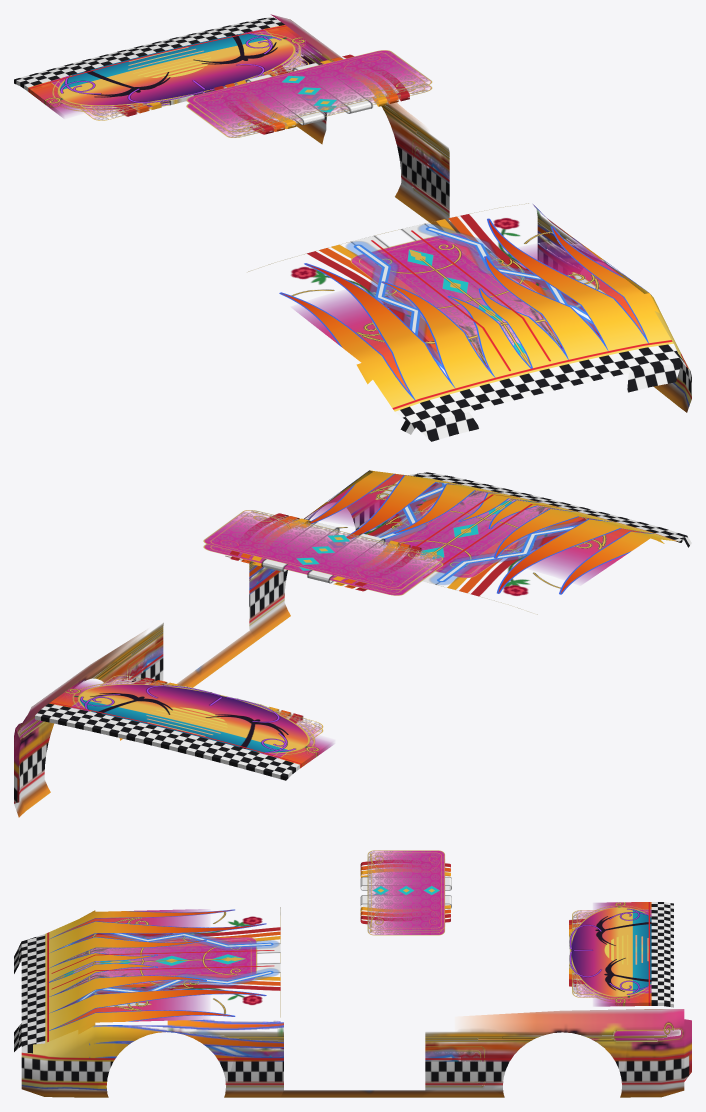
File: KazeRS8Vinyls.glb
3 renders of one model, top to bottom at view 1: azimuth 30°, elevation 25°; view 2: azimuth 150°, elevation 25°; view 3: azimuth 270°, elevation 25°, orthographic. The views are drawn at different scales.
Visible parts, largest first — view 1: KazeRS8Livery_flames_hood, KazeRS8Livery_mural_trunk, KazeRS8Livery_patterns_roof, KazeRS8Livery_checker_hood, KazeRS8Livery_patterns_hood, KazeRS8Livery_purple_lace_roof, KazeRS8Livery_lightning_hood, KazeRS8Livery_purple_lace_hood, KazeRS8Livery_sunset_fade_hood, KazeRS8Livery_retro_waves_hood, KazeRS8Livery_checker_trunk, KazeRS8Livery_tropical_hood (+15 smaller); view 2: KazeRS8Livery_patterns_roof, KazeRS8Livery_flames_hood, KazeRS8Livery_mural_trunk, KazeRS8Livery_purple_lace_roof, KazeRS8Livery_checker_trunk, KazeRS8Livery_patterns_hood, KazeRS8Livery_purple_lace_hood, KazeRS8Livery_checker_side, KazeRS8Livery_lightning_hood, KazeRS8Livery_sunset_fade_hood, KazeRS8Livery_checker_hood, KazeRS8Livery_retro_waves_hood (+15 smaller); view 3: KazeRS8Livery_flames_hood, KazeRS8Livery_checker_side, KazeRS8Livery_mural_trunk, KazeRS8Livery_patterns_roof, KazeRS8Livery_flames_side, KazeRS8Livery_tropical_side, KazeRS8Livery_patterns_hood, KazeRS8Livery_purple_lace_roof, KazeRS8Livery_checker_hood, KazeRS8Livery_sunset_fade_side, KazeRS8Livery_retro_waves_side, KazeRS8Livery_stripes_side (+22 smaller).
Boxes of the visible parts, box(x1,y1,x2,y2) form: KazeRS8Livery_flames_hood: box(279, 218, 673, 411); KazeRS8Livery_mural_trunk: box(44, 31, 304, 112); KazeRS8Livery_patterns_roof: box(186, 50, 431, 137); KazeRS8Livery_checker_hood: box(371, 230, 686, 441); KazeRS8Livery_patterns_hood: box(350, 233, 562, 365); KazeRS8Livery_purple_lace_roof: box(189, 53, 431, 137); KazeRS8Livery_lightning_hood: box(346, 224, 597, 376); KazeRS8Livery_purple_lace_hood: box(394, 246, 557, 362); KazeRS8Livery_sunset_fade_hood: box(298, 243, 643, 392); KazeRS8Livery_retro_waves_hood: box(307, 214, 601, 364); KazeRS8Livery_checker_trunk: box(14, 16, 286, 92); KazeRS8Livery_tropical_hood: box(299, 245, 617, 345); KazeRS8Livery_patterns_roof: box(203, 510, 442, 595); KazeRS8Livery_flames_hood: box(308, 470, 678, 594); KazeRS8Livery_mural_trunk: box(65, 682, 318, 756); KazeRS8Livery_purple_lace_roof: box(208, 510, 442, 593); KazeRS8Livery_checker_trunk: box(35, 702, 301, 780); KazeRS8Livery_patterns_hood: box(385, 491, 557, 577); KazeRS8Livery_purple_lace_hood: box(403, 491, 552, 561); KazeRS8Livery_checker_side: box(14, 503, 393, 803); KazeRS8Livery_lightning_hood: box(373, 482, 606, 584); KazeRS8Livery_sunset_fade_hood: box(313, 474, 648, 580); KazeRS8Livery_checker_hood: box(408, 472, 691, 577); KazeRS8Livery_retro_waves_hood: box(368, 483, 596, 596); KazeRS8Livery_flames_hood: box(45, 909, 266, 1042); KazeRS8Livery_checker_side: box(21, 1052, 689, 1085); KazeRS8Livery_mural_trunk: box(569, 902, 651, 1006); KazeRS8Livery_patterns_roof: box(367, 850, 444, 935); KazeRS8Livery_flames_side: box(21, 1020, 666, 1090); KazeRS8Livery_tropical_side: box(467, 1009, 691, 1062); KazeRS8Livery_patterns_hood: box(55, 937, 256, 990); KazeRS8Livery_purple_lace_roof: box(368, 850, 437, 934); KazeRS8Livery_checker_hood: box(14, 932, 274, 1053); KazeRS8Livery_sunset_fade_side: box(21, 1009, 691, 1097); KazeRS8Livery_retro_waves_side: box(207, 1031, 691, 1072); KazeRS8Livery_stripes_side: box(21, 1073, 690, 1093).
Bounding box in the file's own units: 7.27 × 4.34 × 17.8.
Materials: 50 (50 with a texture image).
